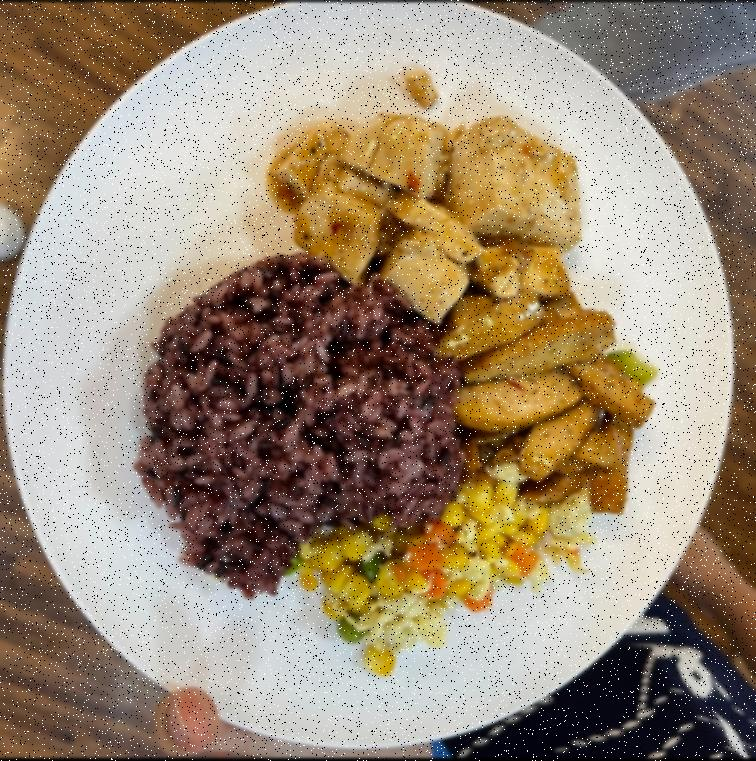big fried chicken leg: (6, 4, 742, 758)
braised fish: (138, 258, 453, 599)
braised fish fillet: (270, 101, 586, 323), (446, 267, 660, 518), (296, 492, 564, 678)
